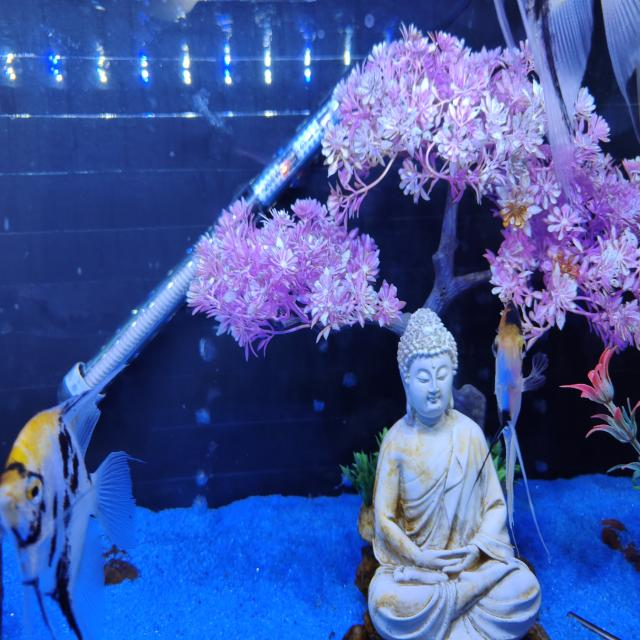Fish: (0, 368, 135, 639), (489, 300, 548, 554), (518, 0, 593, 197)
